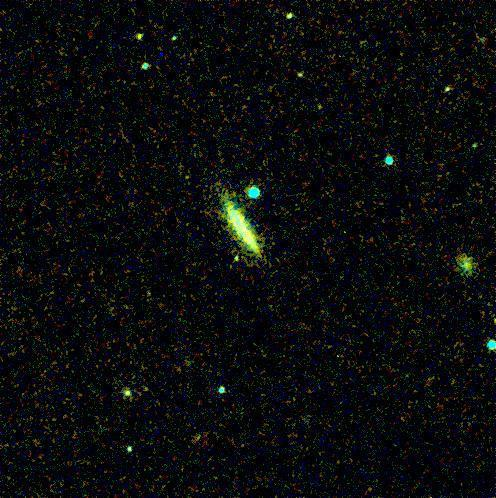star: (219, 248, 249, 278)
